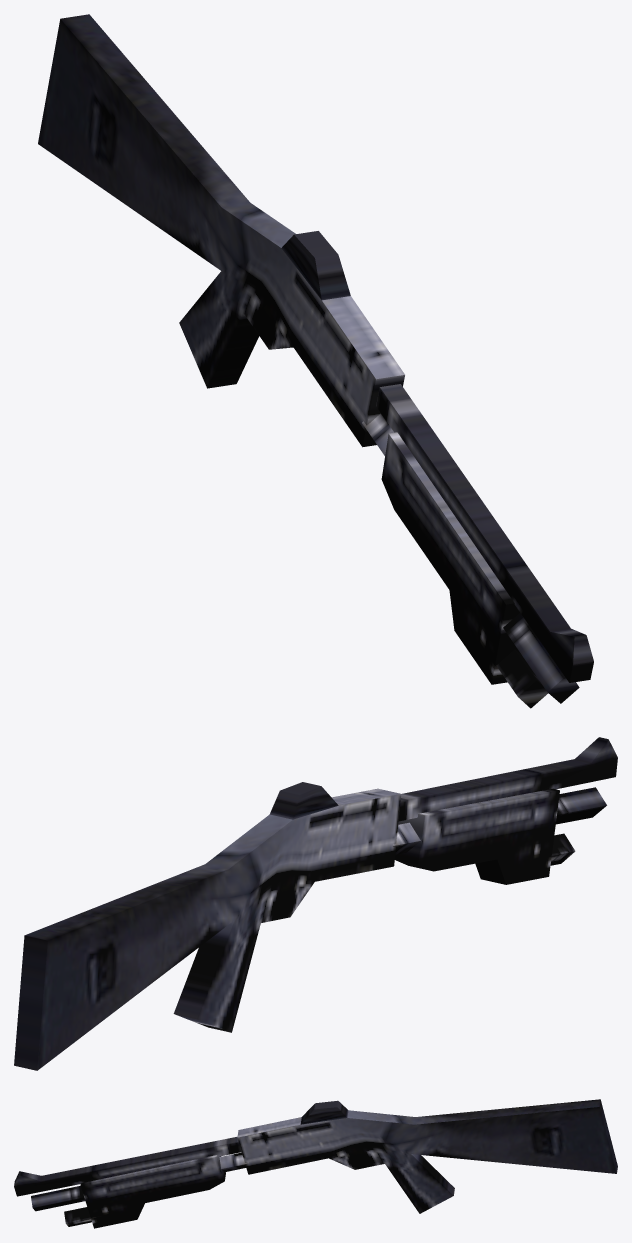
File: m3-world.glb
3 views of the same model, one above another, from view 1: azimuth 30°, elevation 25°; view 2: azimuth 150°, elevation 25°; view 3: azimuth 270°, elevation 25° (orthographic). The views are drawn at different scales.
Visible parts, largest first — view 1: m3 held; view 2: m3 held; view 3: m3 held.
Part boxes in pixels (box(x1,y1,x2,y2)): m3 held: box(38, 14, 593, 708); m3 held: box(14, 737, 617, 1070); m3 held: box(14, 1099, 617, 1228).
Bounding box in the file's own units: 0.0928 × 0.2353 × 0.9019.
Materials: 1 (1 with a texture image).
